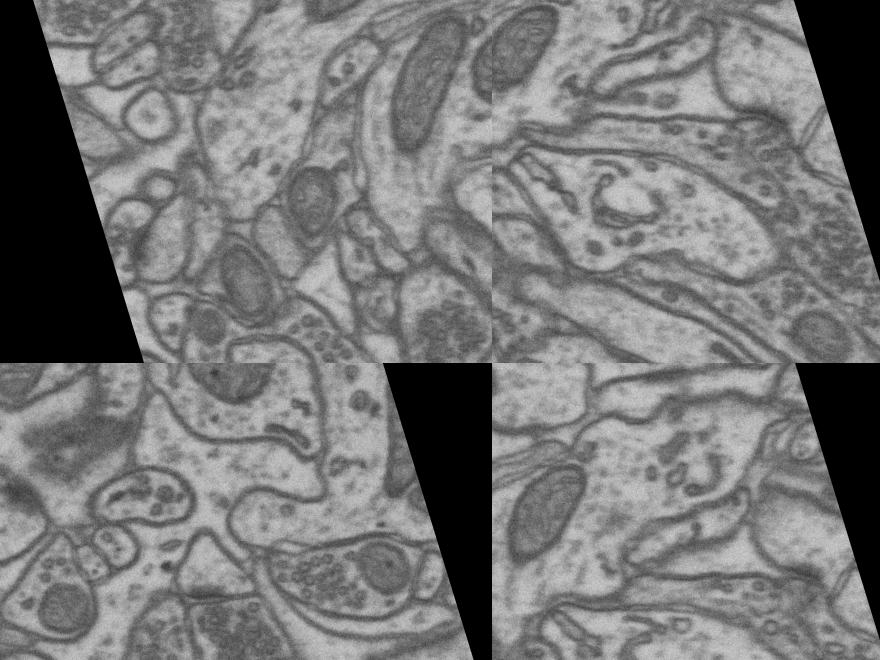mitochondria: (348, 5, 492, 169), (492, 446, 613, 584), (324, 363, 423, 509), (492, 0, 581, 111), (156, 363, 295, 430), (772, 282, 877, 363), (207, 230, 288, 330), (269, 153, 353, 248), (340, 522, 422, 610), (16, 569, 102, 651), (449, 11, 492, 120), (284, 0, 400, 39), (387, 451, 433, 533), (0, 363, 70, 414), (180, 302, 230, 354), (141, 347, 189, 363)
